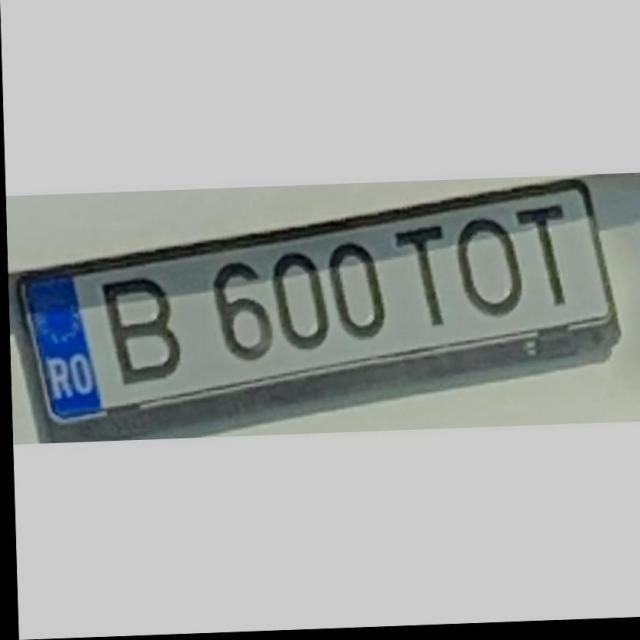license-plates: (12, 180, 621, 442)
